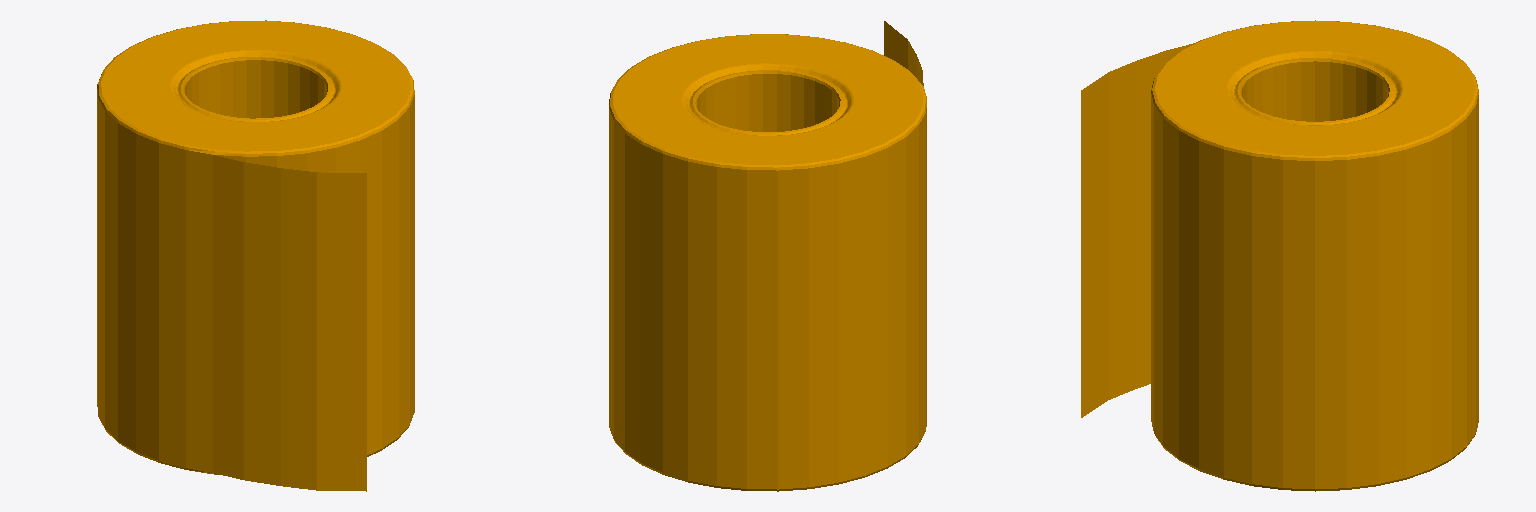
URDF robot description (mesh_object):
<?xml version="1.0" ?>
            <robot name="mesh_object">
            <link name="base">
                <visual>
                    <geometry>
                        <mesh filename="1.obj" scale="1.0 1.0 1.0"/>
                    </geometry>
                </visual>
                <collision>
                    <geometry>
                        <mesh filename="1.obj" scale="1.0 1.0 1.0"/>
                    </geometry>
                </collision>
                <inertial>
                    <origin xyz="0 0 0.0495604" rpy="0 0 0"/>
                    <mass value="0.5"/>
                    <inertia ixx="0.01" iyy="0.01" izz="0.01" ixy="0" ixz="0" iyz="0"/>
                </inertial>
            </link>
            </robot>
        

--- Facts derived from the render (not from the file) ---
Views: 3 orthographic renders of the robot side by side, from view 1: azimuth 30°, elevation 25°; view 2: azimuth 150°, elevation 25°; view 3: azimuth 270°, elevation 25°.
Model mesh_object with 1 links and 0 joints (none), rooted at base, posed every joint at zero.
Visible links, largest first — view 1: base; view 2: base; view 3: base.
Boxes of the visible links, <box> form: base: <box>97,20,414,491</box>; base: <box>609,21,926,491</box>; base: <box>1081,20,1478,491</box>.
Size in the robot's own frame: 0.0879 by 0.1067 by 0.0991 metres.
Meshes: 1 distinct files referenced, 1 mesh visuals loaded (1 OBJ).
